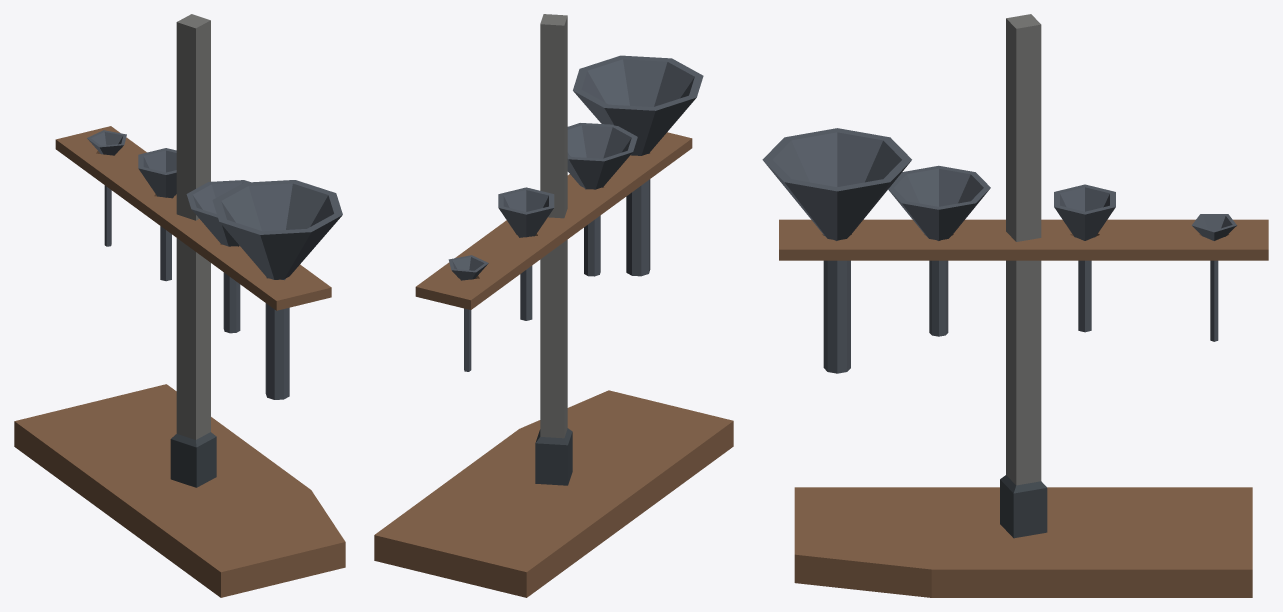
Rendered from SM_Rack_For_Chemical_Funnels.fbx.
3 views of the same model, side by side, from view 1: azimuth 30°, elevation 25°; view 2: azimuth 150°, elevation 25°; view 3: azimuth 270°, elevation 25° (orthographic). The views are drawn at different scales.
Visible parts, largest first — view 1: SM_Rack_For_Chemical_Funnels, SM_Chemical_Funnel_01, SM_Chemical_Funnel_02, SM_Chemical_Funnel_03, SM_Chemical_Funnel_04; view 2: SM_Rack_For_Chemical_Funnels, SM_Chemical_Funnel_01, SM_Chemical_Funnel_02, SM_Chemical_Funnel_03, SM_Chemical_Funnel_04; view 3: SM_Rack_For_Chemical_Funnels, SM_Chemical_Funnel_01, SM_Chemical_Funnel_02, SM_Chemical_Funnel_03, SM_Chemical_Funnel_04.
Boxes of the visible parts, bbox=[...] form: SM_Rack_For_Chemical_Funnels: bbox=[14, 14, 345, 597]; SM_Chemical_Funnel_01: bbox=[212, 180, 342, 399]; SM_Chemical_Funnel_02: bbox=[186, 180, 250, 333]; SM_Chemical_Funnel_03: bbox=[138, 148, 176, 281]; SM_Chemical_Funnel_04: bbox=[87, 130, 126, 246]; SM_Rack_For_Chemical_Funnels: bbox=[374, 14, 733, 597]; SM_Chemical_Funnel_01: bbox=[573, 55, 703, 276]; SM_Chemical_Funnel_02: bbox=[567, 123, 637, 276]; SM_Chemical_Funnel_03: bbox=[498, 187, 554, 320]; SM_Chemical_Funnel_04: bbox=[448, 255, 488, 371]; SM_Rack_For_Chemical_Funnels: bbox=[779, 14, 1268, 597]; SM_Chemical_Funnel_01: bbox=[762, 128, 911, 373]; SM_Chemical_Funnel_02: bbox=[888, 165, 990, 336]; SM_Chemical_Funnel_03: bbox=[1054, 184, 1115, 332]; SM_Chemical_Funnel_04: bbox=[1191, 214, 1236, 341].
Bounding box in the file's own units: 15.44 × 46.8 × 40.1.
